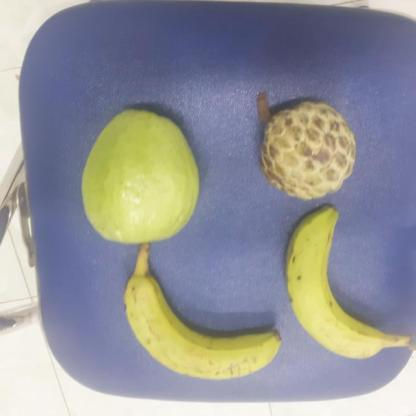annona: (259, 102, 355, 204)
banana: (119, 250, 286, 379), (286, 205, 394, 365)
guava: (81, 109, 200, 246)
